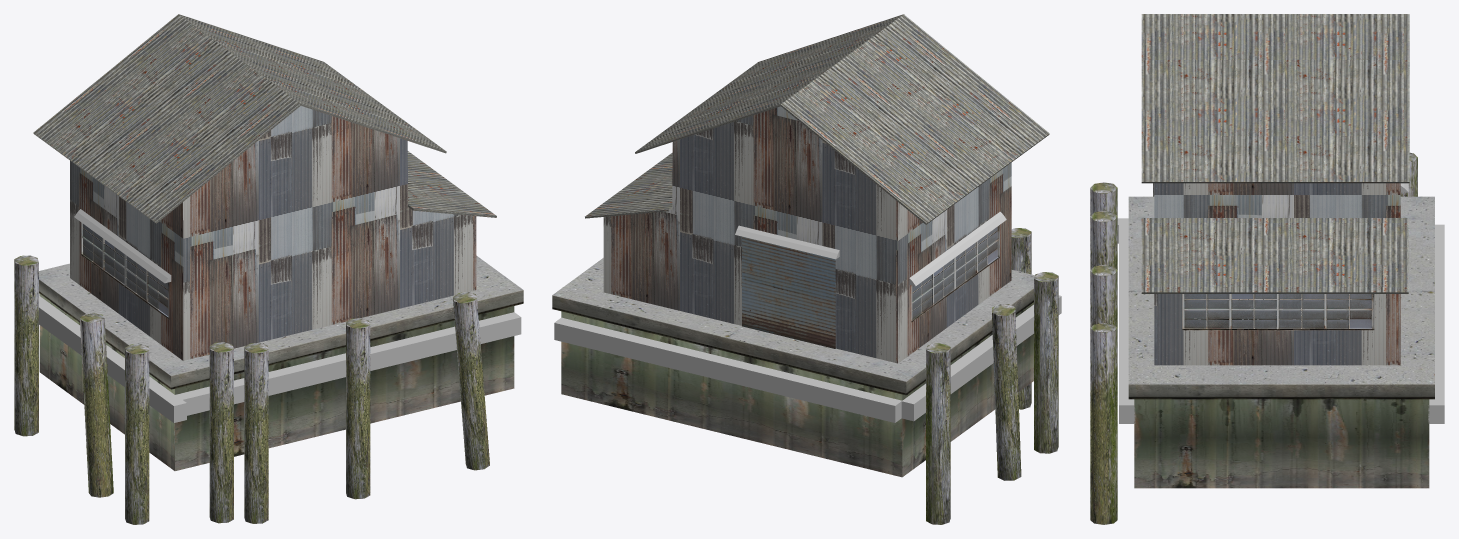
File: IndstrialShack_01.DAE
3 renders of one model, left to right at view 1: azimuth 30°, elevation 25°; view 2: azimuth 150°, elevation 25°; view 3: azimuth 270°, elevation 25°, orthographic. The views are drawn at different scales.
Parts seen in each view (by area): view 1: IndustryShackOne200; view 2: IndustryShackOne200; view 3: IndustryShackOne200.
Part boxes in pixels (x1,y1,x2,y2): IndustryShackOne200: [14, 14, 523, 524]; IndustryShackOne200: [552, 14, 1061, 524]; IndustryShackOne200: [1090, 14, 1444, 524].
Size of what is drawn, in the model's own units: 18.2 by 13.45 by 17.68.
